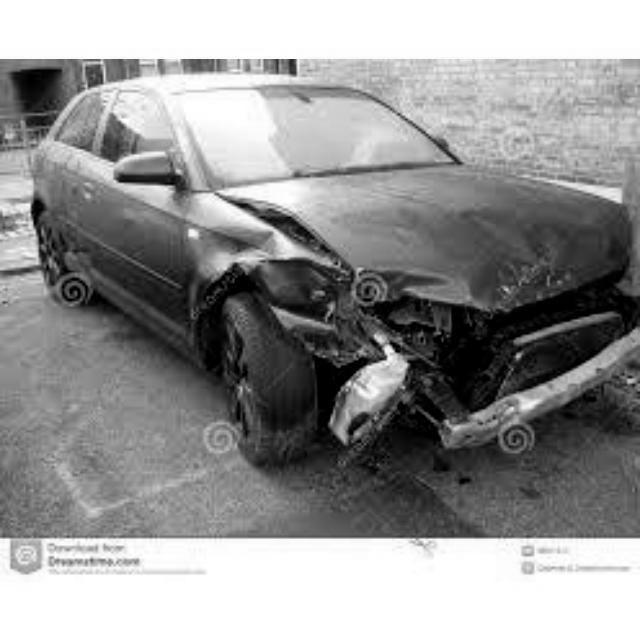bonnet-dent: (281, 151, 637, 305)
fender-dent: (173, 213, 299, 378)
